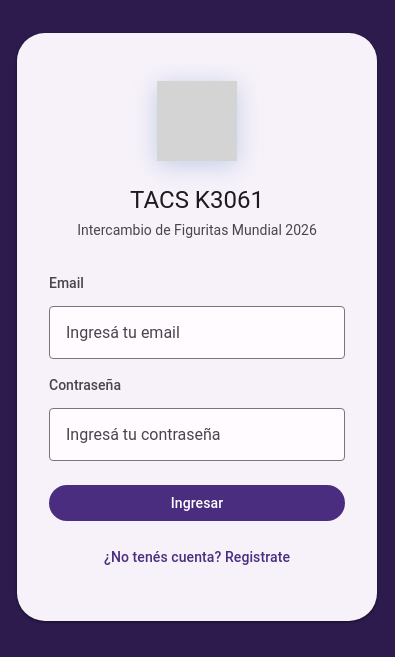
Test: LoginPage — login flow › credenciales inválidas muestra mensaje de error
Type "a@b.com" into the field with placeholder "Ingresá tu email".
click(197, 332); type("a@b.com")  # box [49,306,345,359]
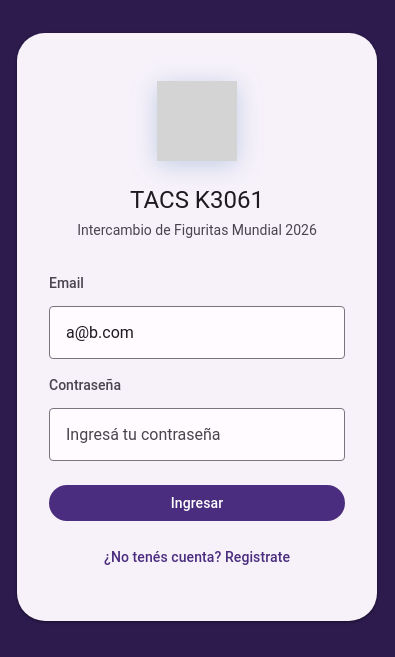
Type "secreto" into the password field with placeholder "Ingresá tu contraseña".
click(197, 434); type("secreto")  # box [49,408,345,461]
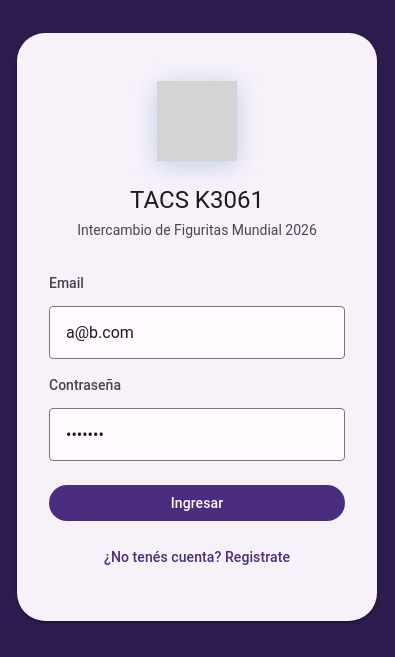
Click the button "Ingresar".
click(197, 503)  # box [49,485,345,521]
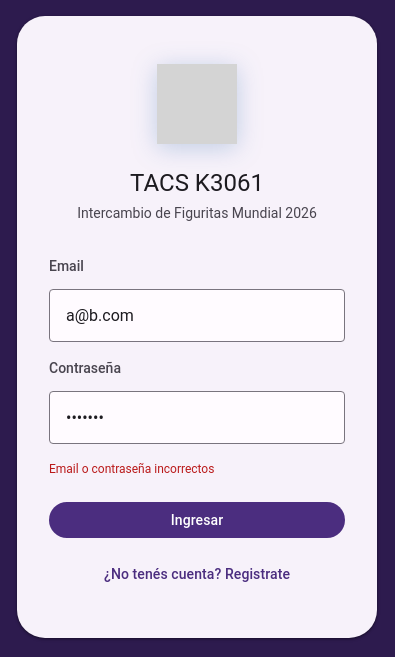
Result: the text "Email o contraseña incorrectos" is shown at [49,462,214,476]
